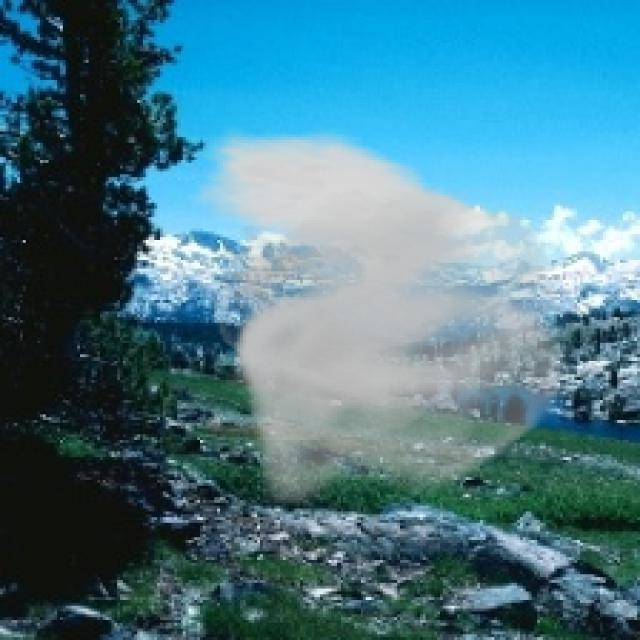smoke: (189, 126, 580, 506)
